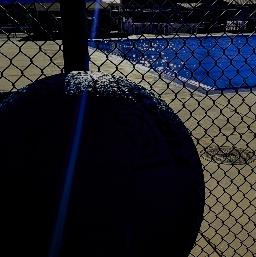algae: (0, 74, 206, 257)
